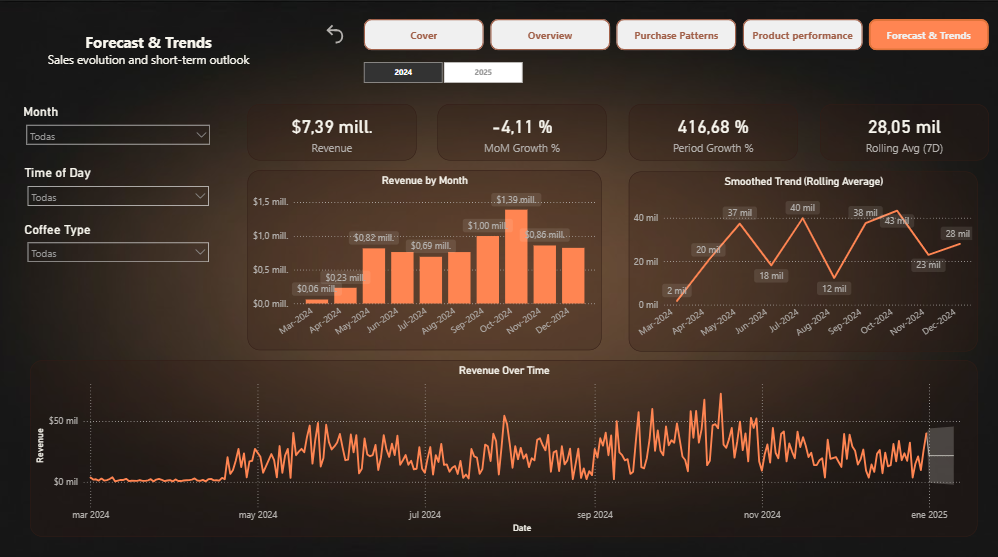

The page's visual inventory and layout, read from the dashboard file:
{"tool":"powerbi","page":{"name":"Forecast & Trends","canvas":[1600,900],"ordinal":4},"visuals":[{"type":"pageNavigator","box":[582,32,1000,50],"z":0},{"type":"columnChart","title":"Revenue by Month","fields":{"Y":["Medidas DAX (2).Revenue"],"Category":["DimDate.MonthYear_Label"]},"box":[396,274,566,288],"z":1000},{"type":"lineChart","title":"Revenue Over Time","fields":{"Y":["Medidas DAX (2).Revenue"],"Category":["DimDate.Date"]},"box":[48,578,1516,282],"z":2000},{"type":"textbox","box":[20,25,435,120],"z":4000},{"type":"slicer","title":"Month","fields":{"Values":["DimDate.MontName_EN"]},"box":[32.7,168,314,90],"z":5000},{"type":"actionButton","box":[515,36.7,40,40],"z":6000},{"type":"slicer","title":"Time of Day","fields":{"Values":["DimTime.Time_of_Day"]},"box":[33.5,266,310,90],"z":7000},{"type":"card","fields":{"Values":["Medidas DAX (2).Revenue"]},"box":[395,168.3,270,90],"z":8000},{"type":"card","fields":{"Values":["Medidas DAX (2).MoM Growth %"]},"box":[700.6,168.3,270,90],"z":9000},{"type":"card","fields":{"Values":["Medidas DAX (2).Rolling Avg (7D)"]},"box":[1311.7,168.3,270,90],"z":10000},{"type":"card","fields":{"Values":["Medidas DAX (2).YoY Growth %"]},"box":[1006.1,168.3,270,90],"z":11000},{"type":"lineChart","title":"Smoothed Trend (Rolling Average)","fields":{"Y":["Medidas DAX (2).Rolling Avg (7D)"],"Category":["DimDate.MonthYear_Label"]},"box":[1006,276,558,288],"z":12000},{"type":"slicer","title":"Coffee Type","fields":{"Values":["DimProduct.coffee_name"]},"box":[33.3,356.7,310,90],"z":13000},{"type":"slicer","fields":{"Values":["DimDate.Año"]},"box":[555.7,94.3,304.3,47.1],"z":13001}]}

Visuals, with their boxes in screenshot pixels (x1, y1, x2, y2), scaled from the page's 1600x900 canvas onto the 998x557 screenshot:
pageNavigator: (left=363, top=20, right=987, bottom=51)
"Revenue by Month" columnChart: (left=247, top=170, right=600, bottom=348)
"Revenue Over Time" lineChart: (left=30, top=358, right=976, bottom=532)
textbox: (left=12, top=15, right=284, bottom=90)
"Month" slicer: (left=20, top=104, right=216, bottom=160)
actionButton: (left=321, top=23, right=346, bottom=47)
"Time of Day" slicer: (left=21, top=165, right=214, bottom=220)
card - Medidas DAX (2).Revenue: (left=246, top=104, right=415, bottom=160)
card - Medidas DAX (2).MoM Growth %: (left=437, top=104, right=605, bottom=160)
card - Medidas DAX (2).Rolling Avg (7D): (left=818, top=104, right=987, bottom=160)
card - Medidas DAX (2).YoY Growth %: (left=628, top=104, right=796, bottom=160)
"Smoothed Trend (Rolling Average)" lineChart: (left=627, top=171, right=976, bottom=349)
"Coffee Type" slicer: (left=21, top=221, right=214, bottom=276)
slicer - DimDate.Año: (left=347, top=58, right=536, bottom=88)
